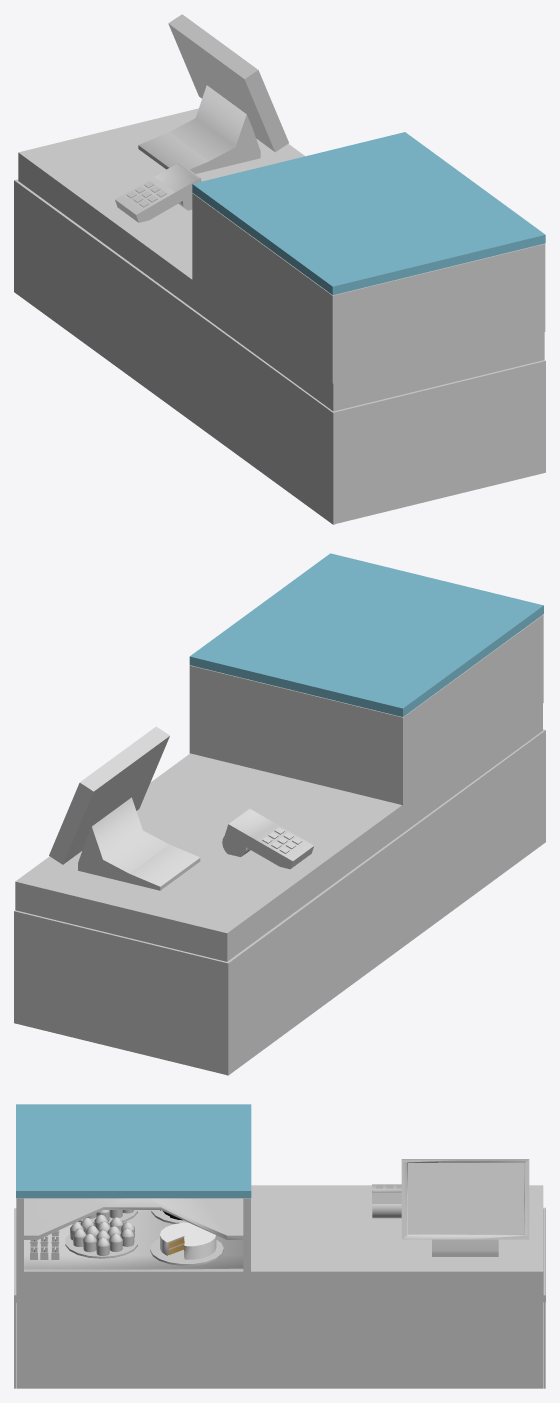
The model's file is BaristaCounter_model.fbx.
The picture shows the model from 3 angles, top to bottom: view 1: azimuth 30°, elevation 25°; view 2: azimuth 150°, elevation 25°; view 3: azimuth 270°, elevation 25°; orthographic projection. The views are drawn at different scales.
Parts seen in each view (by area): view 1: Box251, Box238, CounterBase, Box252, Box236, Box237, Box240, Box239, Box241; view 2: CounterBase, Box251, Box238, Box253, Box235, Box237, Box239, Box240, Box241; view 3: CounterBase, Box238, Box240, Box186, ChocolateCakeFirstLayer007, Box239, CupcakePlate003, Box235, Box236, CupcakePlate001, Box241, Box252 (+2 smaller).
Part boxes in pixels (box(x1,y1,x2,y2)): Box251: box(14, 179, 335, 524); Box238: box(192, 132, 545, 294); CounterBase: box(18, 108, 544, 411); Box252: box(333, 360, 545, 523); Box236: box(328, 243, 545, 383); Box237: box(197, 196, 327, 379); Box240: box(168, 14, 288, 152); Box239: box(138, 85, 260, 173); Box241: box(115, 162, 201, 222); CounterBase: box(15, 703, 542, 961); Box251: box(226, 730, 545, 1075); Box238: box(189, 553, 543, 716); Box253: box(14, 910, 226, 1074); Box235: box(189, 665, 407, 805); Box237: box(407, 618, 538, 801); Box239: box(78, 797, 200, 890); Box240: box(49, 726, 169, 864); Box241: box(225, 808, 313, 869); CounterBase: box(16, 1185, 543, 1388); Box238: box(16, 1104, 251, 1198); Box240: box(401, 1159, 529, 1239); Box186: box(24, 1198, 243, 1239); ChocolateCakeFirstLayer007: box(160, 1222, 216, 1259); Box239: box(432, 1239, 498, 1256); CupcakePlate003: box(150, 1238, 223, 1265); Box235: box(243, 1198, 250, 1272); Box236: box(16, 1198, 23, 1272); CupcakePlate001: box(65, 1233, 137, 1258); Box241: box(372, 1184, 401, 1203); Box252: box(14, 1209, 16, 1388).
Bounding box in the file's own units: 7.69 × 8.44 × 19.71.
